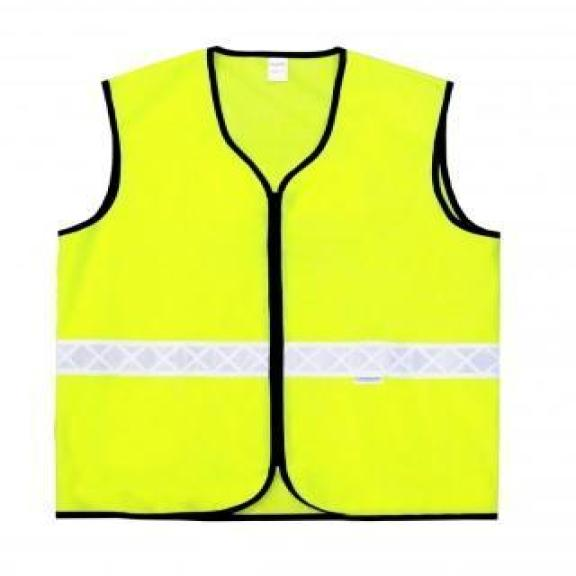safety_vest: (50, 44, 506, 522)
